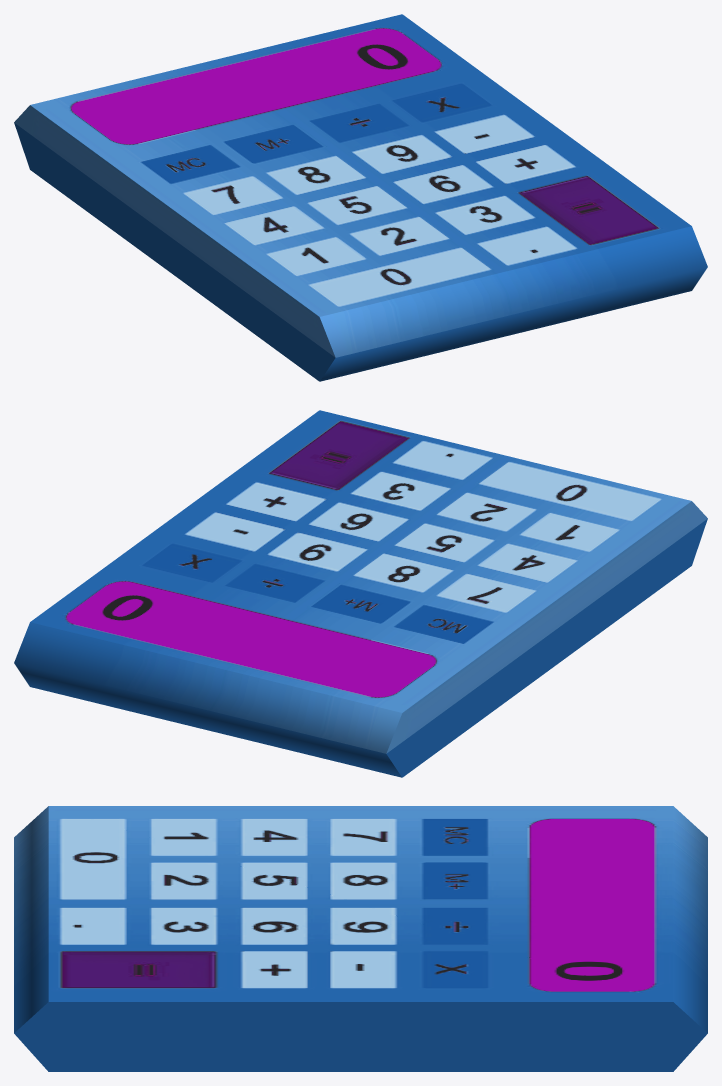
Rendered from calculator.fbx.
3 views of the same model, one above another, from view 1: azimuth 30°, elevation 25°; view 2: azimuth 150°, elevation 25°; view 3: azimuth 270°, elevation 25° (orthographic). The views are drawn at different scales.
Visible parts, largest first — view 1: calculator; view 2: calculator; view 3: calculator.
Boxes of the visible parts, <box> form: calculator: <box>14,14,707,381</box>; calculator: <box>14,410,707,777</box>; calculator: <box>14,806,707,1071</box>.
Bounding box in the file's own units: 1 × 0.1664 × 1.5.
